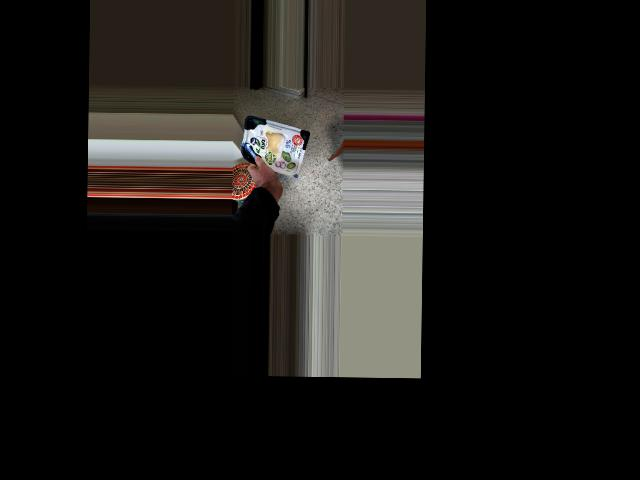cheese: (239, 115, 306, 177)
